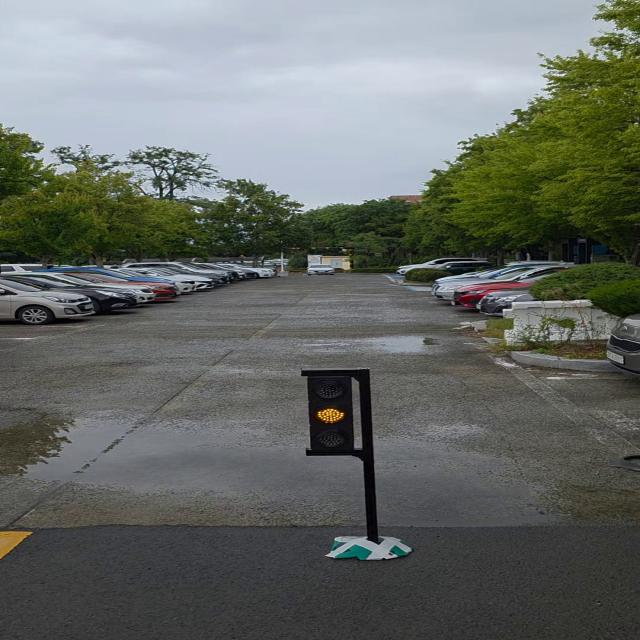yellow: (305, 367, 356, 455)
